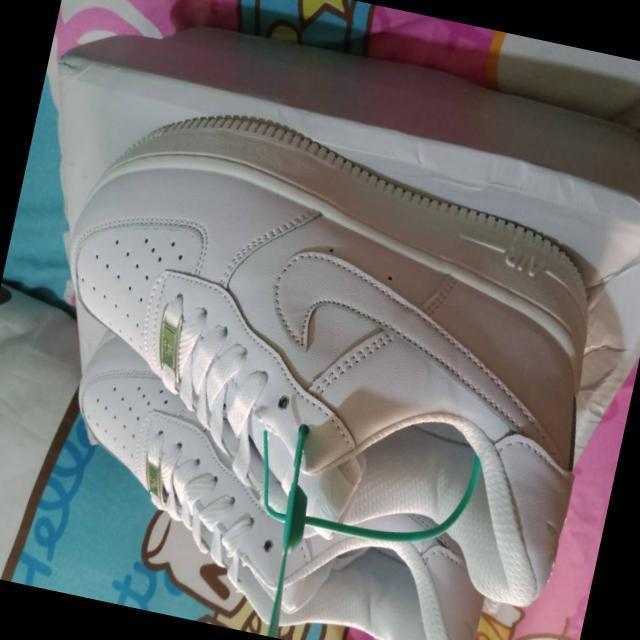nike fake air force: (17, 87, 637, 612), (37, 326, 524, 640)
